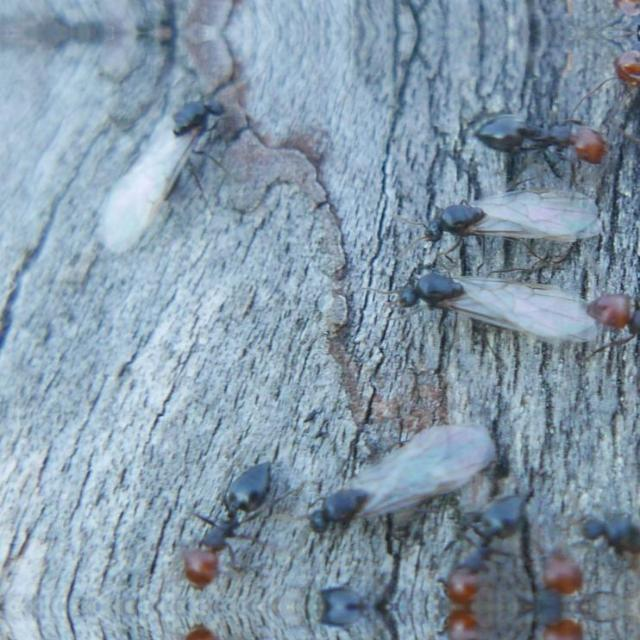Crematogaster: (98, 91, 240, 272), (296, 436, 492, 536), (384, 268, 596, 350), (473, 90, 631, 188), (175, 456, 285, 586), (406, 189, 606, 255), (432, 484, 534, 606), (568, 506, 640, 572), (583, 277, 639, 357), (508, 548, 584, 606), (431, 606, 534, 640), (507, 606, 584, 640), (598, 43, 640, 105), (319, 576, 403, 606), (319, 606, 403, 636), (598, 0, 639, 21)
